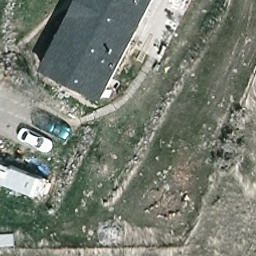camping car: (0, 161, 48, 199)
car: (33, 113, 75, 143), (11, 126, 53, 152)
